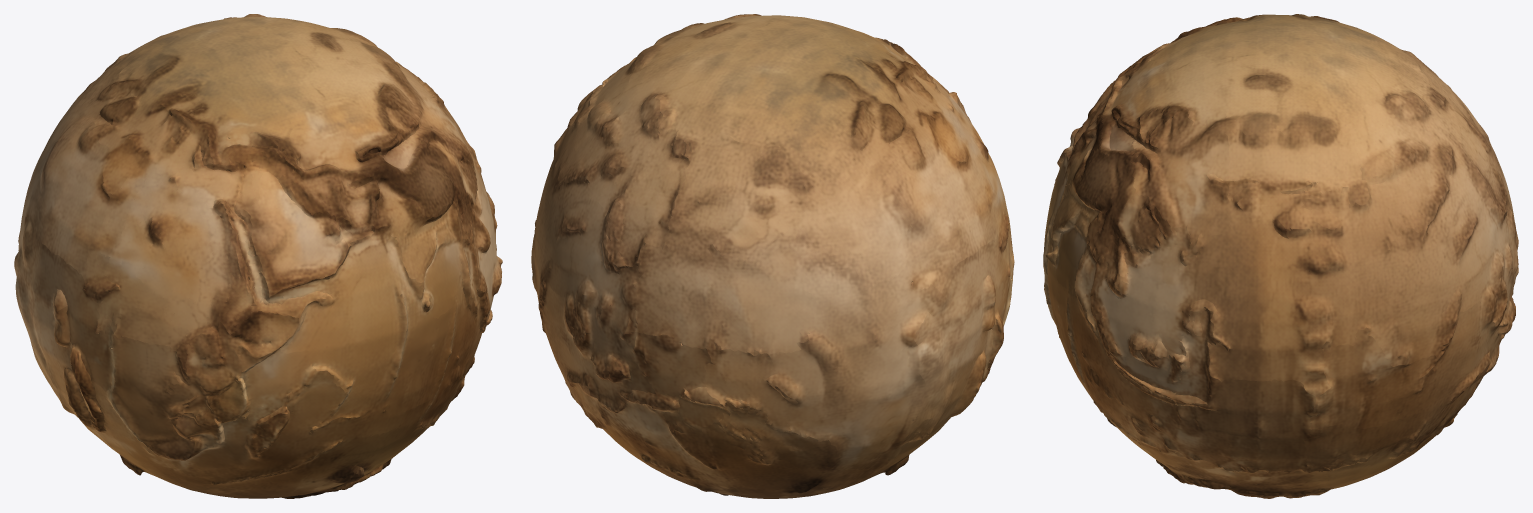
3 renders of one model, left to right at view 1: azimuth 30°, elevation 25°; view 2: azimuth 150°, elevation 25°; view 3: azimuth 270°, elevation 25°, orthographic.
Visible parts, largest first — view 1: world; view 2: world; view 3: world.
Boxes of the visible parts, left/top/right/bottom form: world: left=14, top=14, right=502, bottom=498; world: left=531, top=14, right=1014, bottom=498; world: left=1043, top=14, right=1518, bottom=498.
Size of the model in its own units: 1 by 0.998 by 0.995.
1 material, 1 textured.
